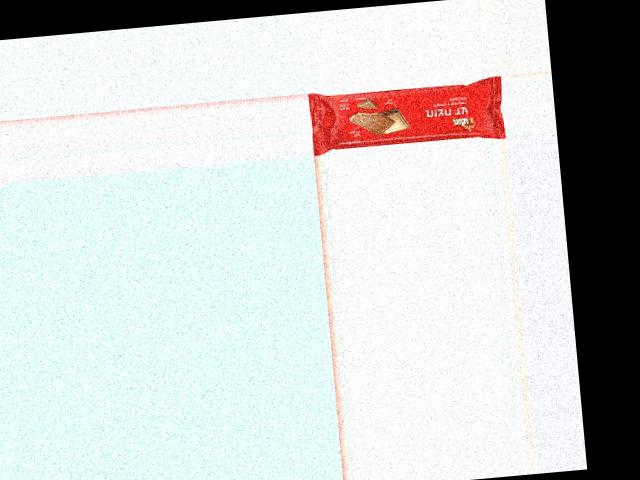chocolate: (310, 75, 501, 155)
